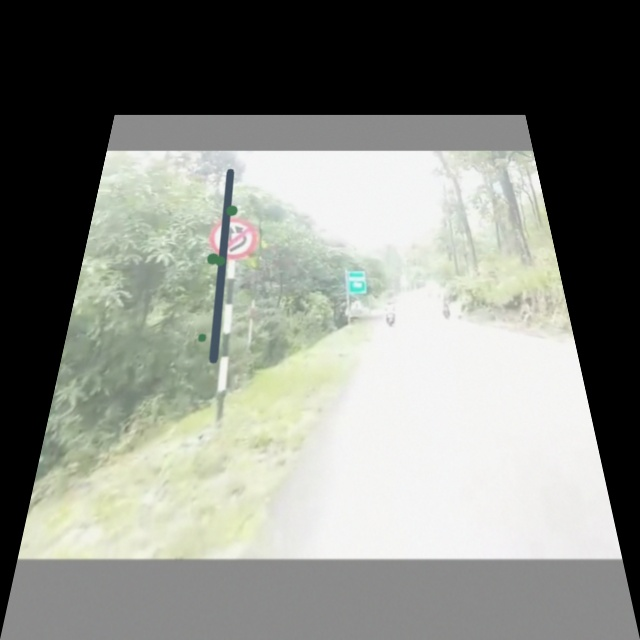Overtaking_Prohibited: (207, 217, 257, 259)
